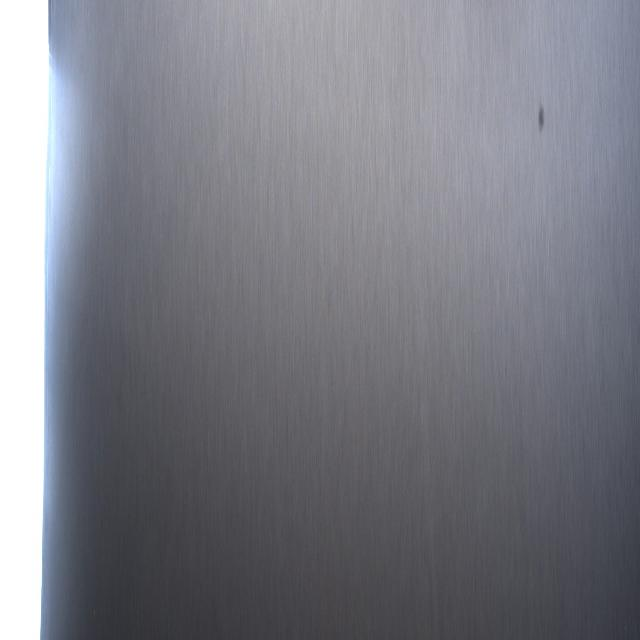crease: (418, 393, 440, 618)
